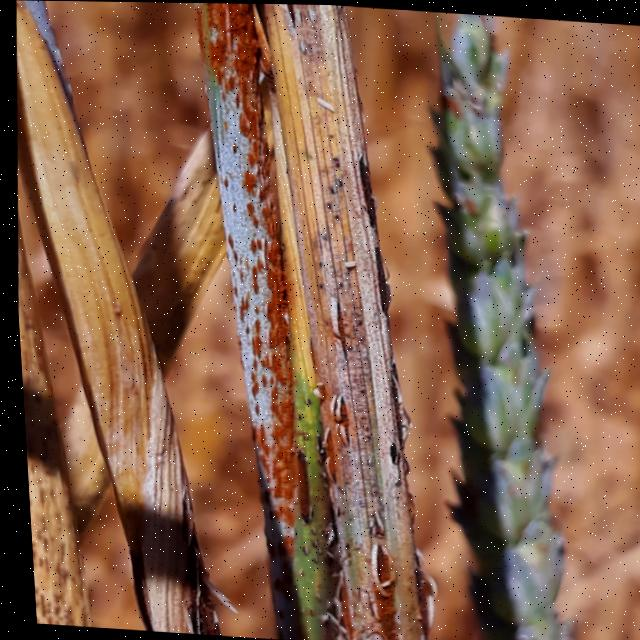black_stem_rust: (150, 2, 477, 640), (0, 0, 251, 636)
